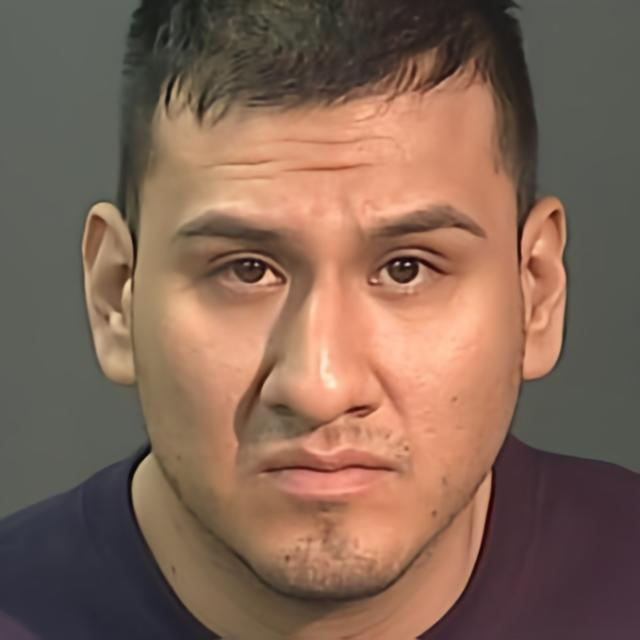disgust: (132, 62, 527, 602)
